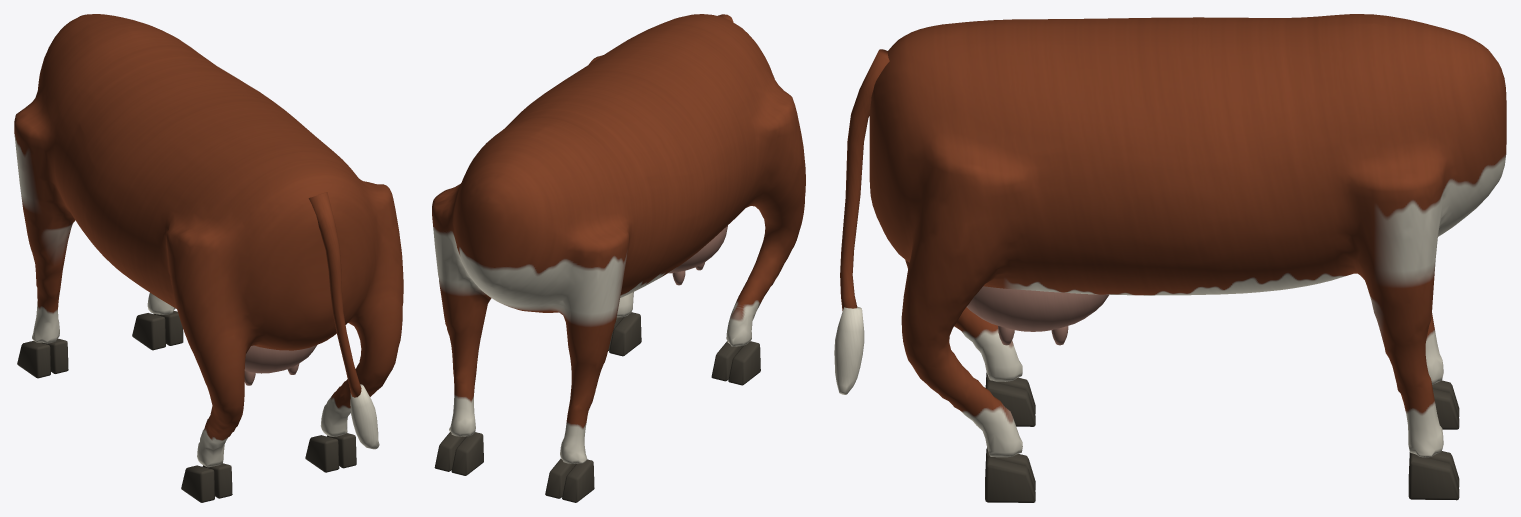
Rendered from SM_Cow_Alive_Body_LOD1.fbx.
The picture shows the model from 3 angles, left to right: view 1: azimuth 30°, elevation 25°; view 2: azimuth 150°, elevation 25°; view 3: azimuth 270°, elevation 25°; orthographic projection. The views are drawn at different scales.
Visible parts, largest first — view 1: SM_Cow_Alive_Body_LOD1; view 2: SM_Cow_Alive_Body_LOD1; view 3: SM_Cow_Alive_Body_LOD1.
Part boxes in pixels (x1=…): SM_Cow_Alive_Body_LOD1: x1=14, y1=14, x2=403, y2=502; SM_Cow_Alive_Body_LOD1: x1=432, y1=14, x2=805, y2=502; SM_Cow_Alive_Body_LOD1: x1=834, y1=14, x2=1506, y2=502.
Size of the model in its own units: 0.9532 by 2.02 by 1.43.
